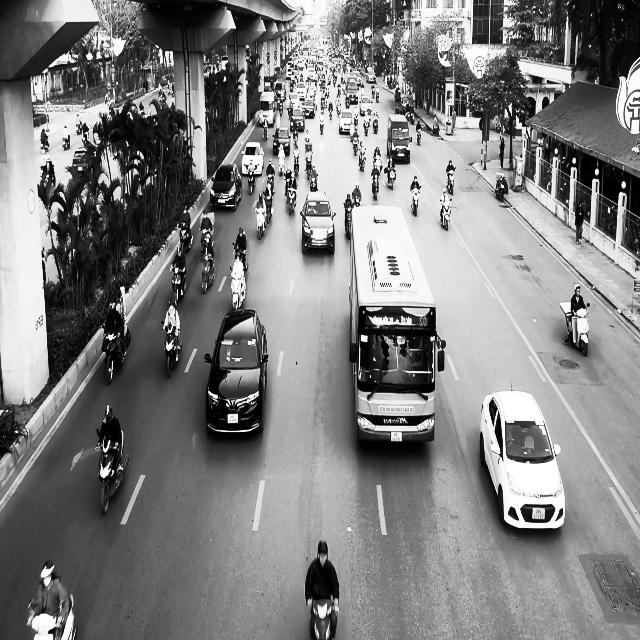bus: (349, 204, 446, 444)
car: (480, 387, 566, 531), (204, 308, 269, 436), (300, 190, 336, 254), (210, 162, 242, 211), (241, 142, 264, 176), (273, 127, 290, 155)
motorbike: (96, 428, 129, 514), (27, 591, 78, 639), (102, 320, 131, 384), (308, 596, 338, 640), (161, 321, 182, 378), (229, 266, 247, 310), (170, 264, 187, 308), (200, 251, 216, 294), (286, 180, 298, 214), (440, 197, 452, 230), (255, 207, 267, 239), (411, 185, 421, 216), (496, 174, 506, 201), (446, 169, 456, 195), (386, 164, 396, 190), (248, 169, 256, 195), (62, 132, 70, 151), (416, 128, 422, 146)
